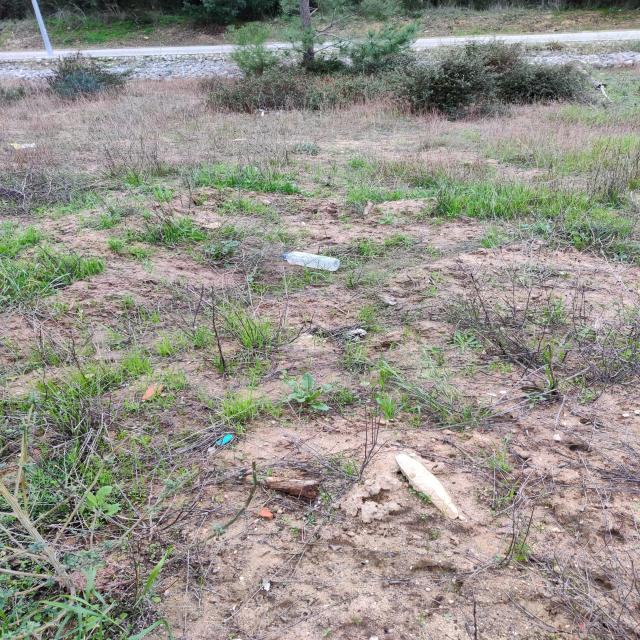litter: (376, 438, 491, 549), (271, 247, 348, 286)
